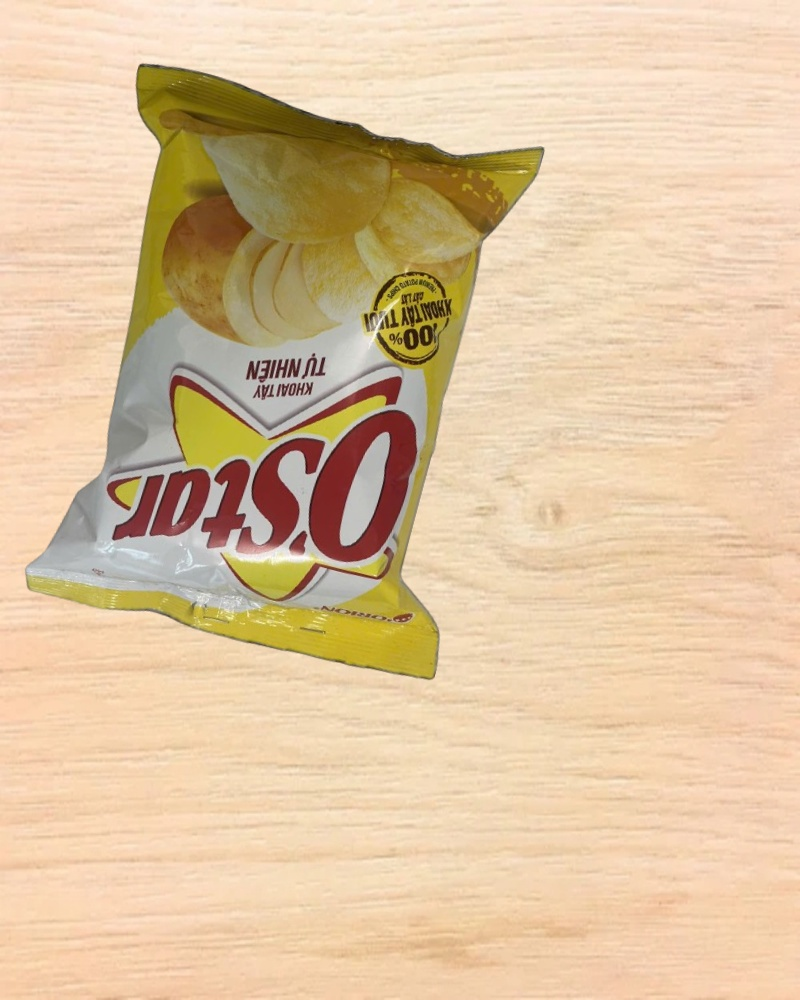Snack cua: (7, 49, 570, 691)
